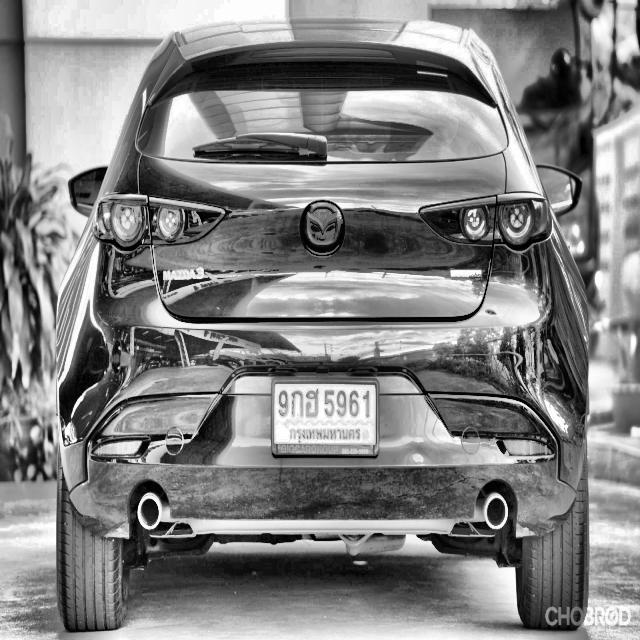license-plate: (268, 369, 382, 463)
